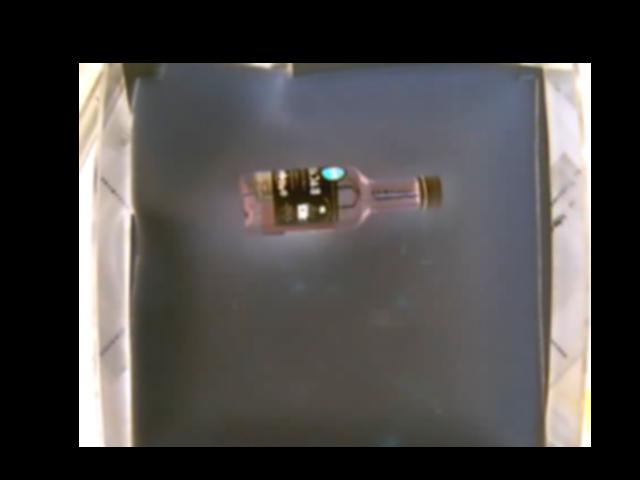Bottle: (239, 165, 443, 237)
